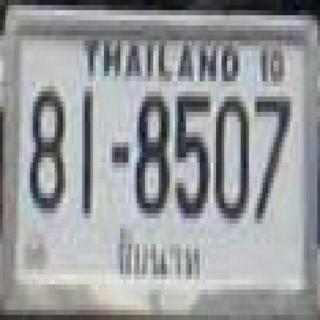N00: (214, 90, 253, 226)
N01: (76, 81, 101, 219)
N05: (170, 86, 212, 220)
N07: (251, 90, 297, 226)
N08: (26, 80, 71, 214), (132, 87, 171, 216)
P08: (111, 224, 210, 287)
